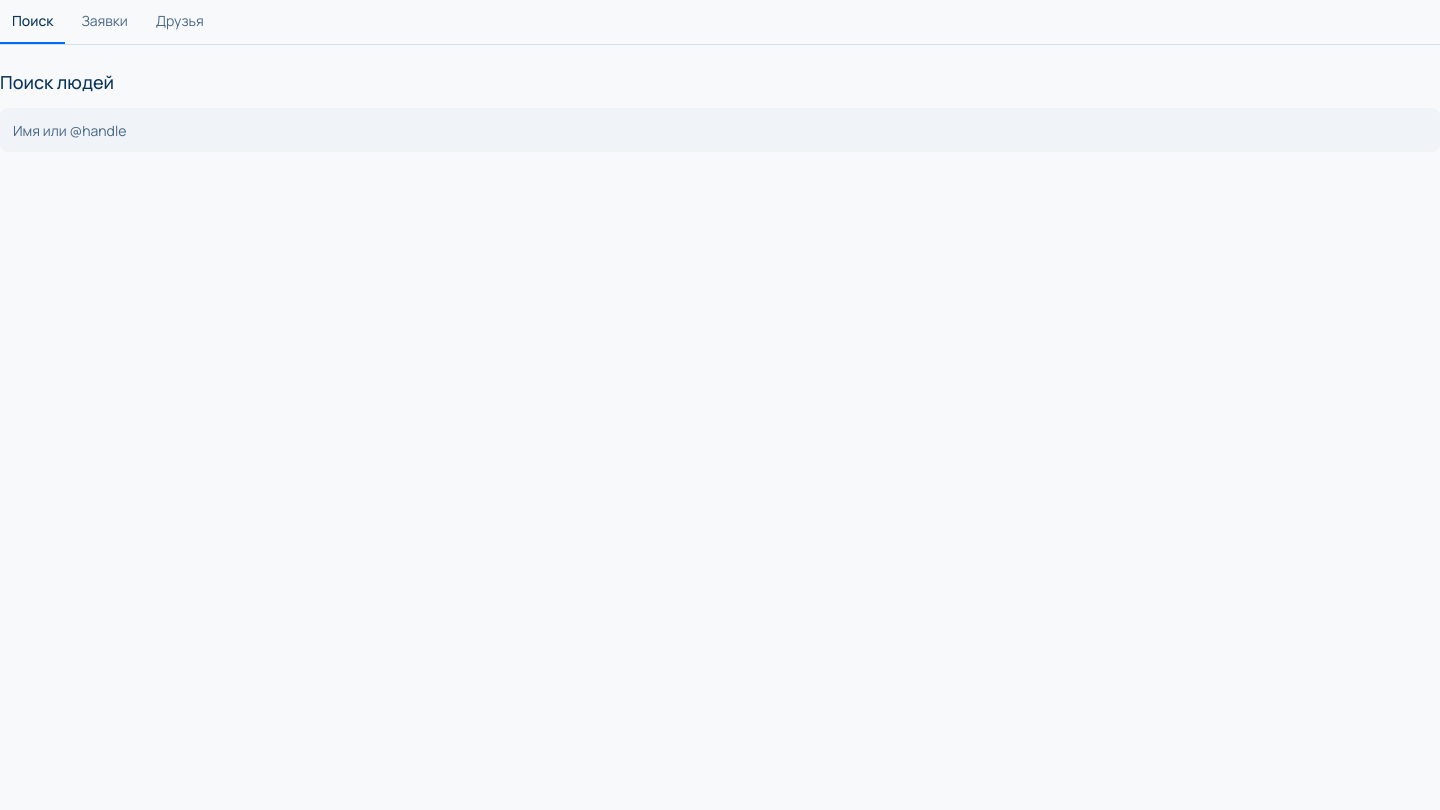
Test: FriendsView feedback › rolls back the friends list and shows an error when removal fails
Click the tab "Друзья" at (180, 22), box [144,0,216,44]
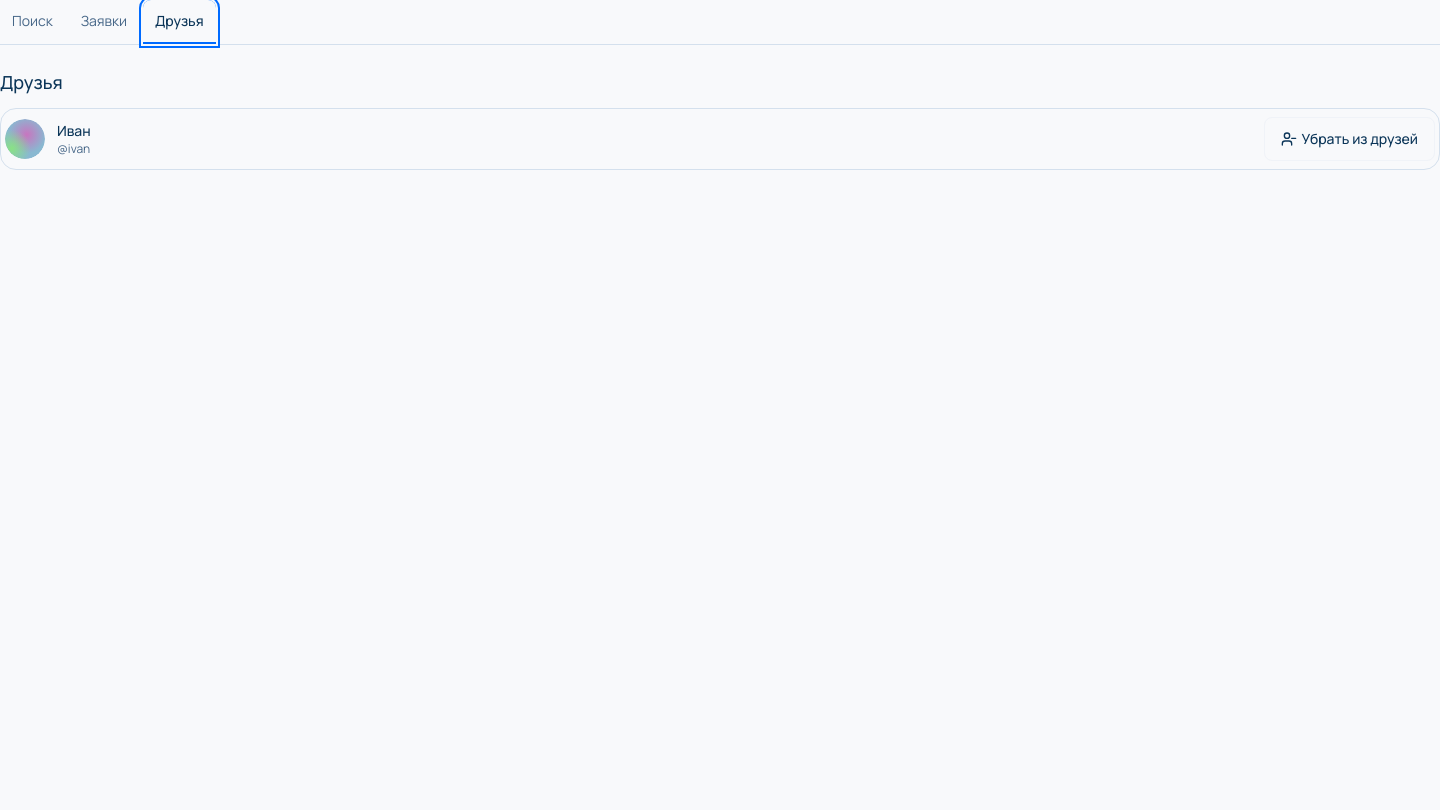
Click the button with aria-label "Убрать Иван из друзей" at (1350, 139), box [1264,117,1435,161]
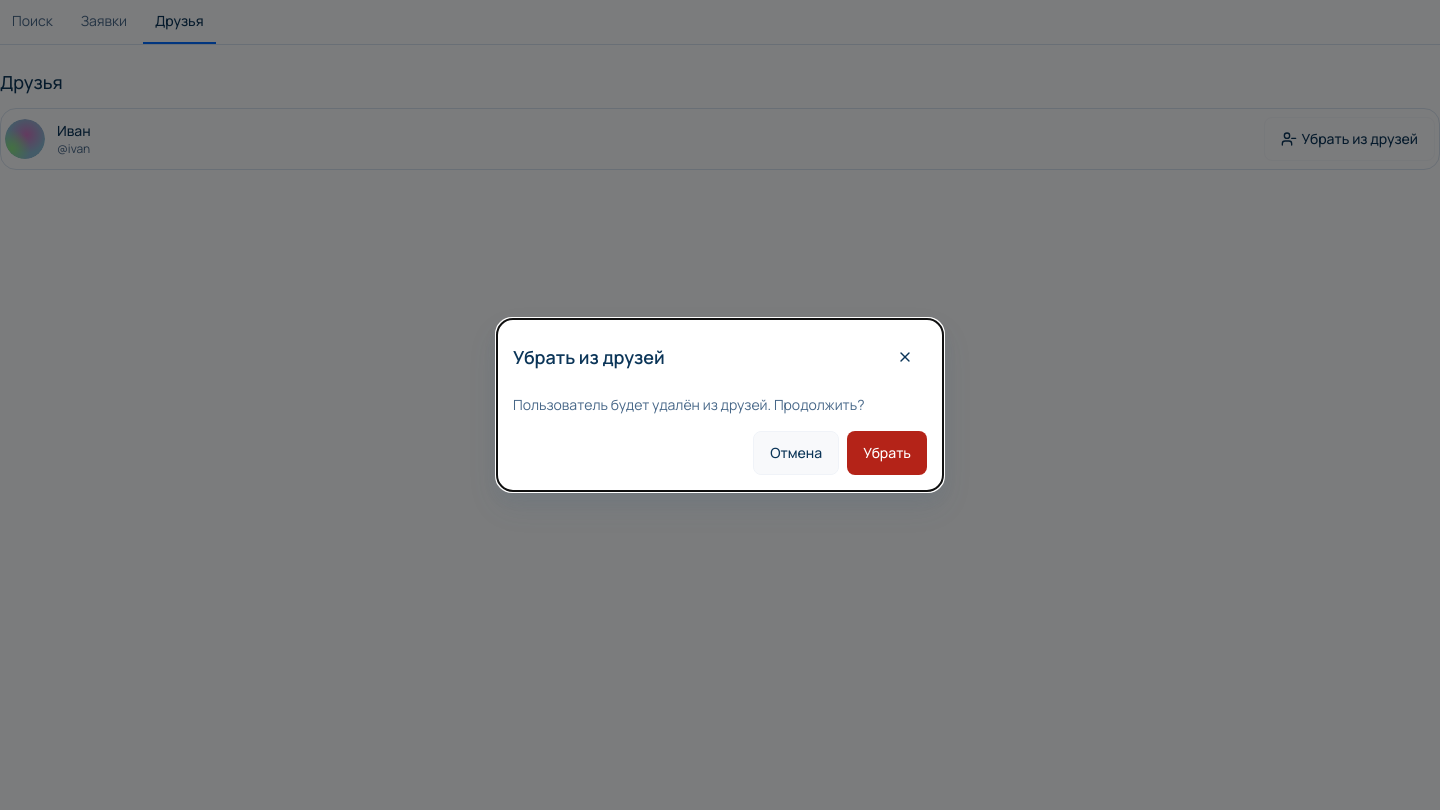
Click the button "Убрать" at (887, 453), box [847,431,927,475]
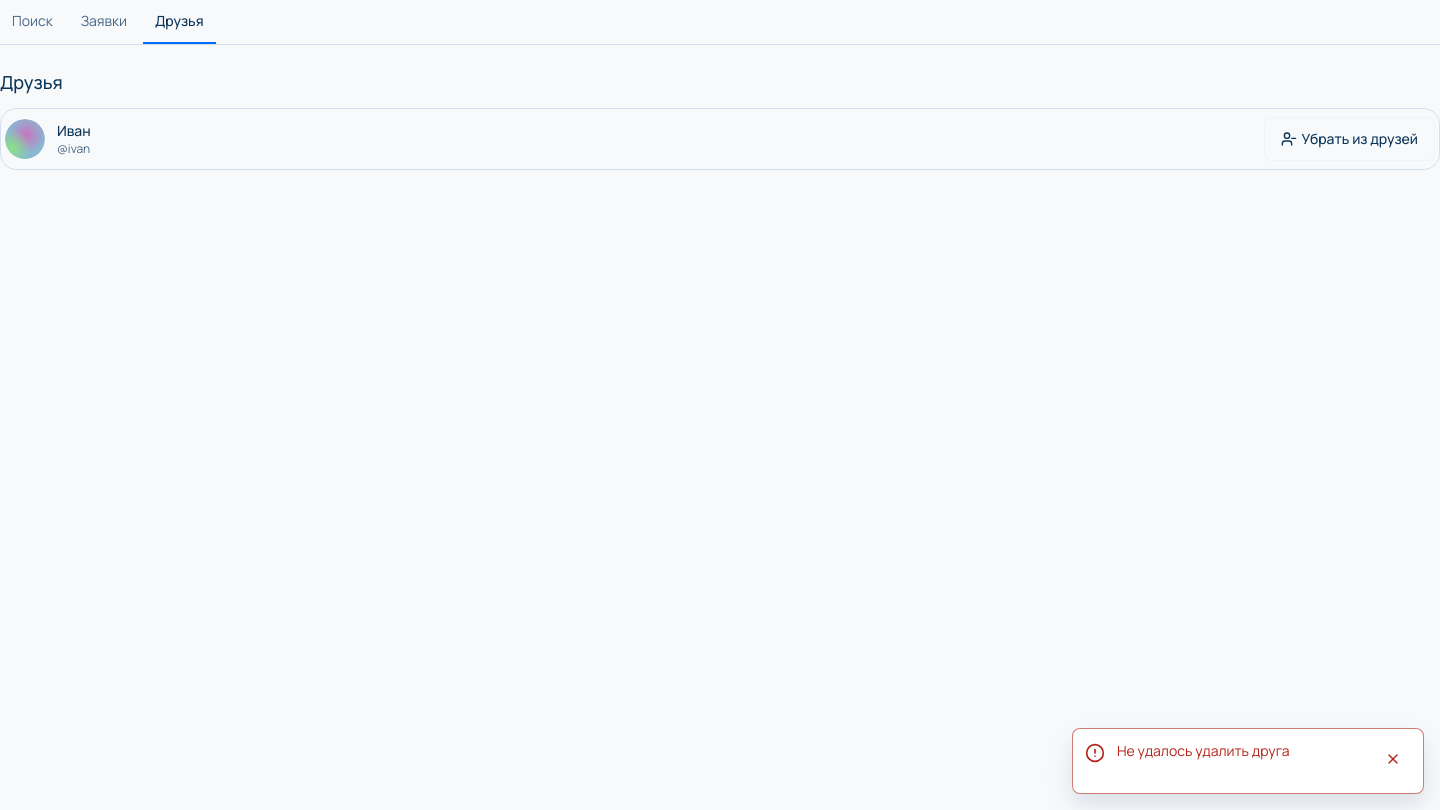
Result: the button with aria-label "Убрать Иван из друзей" is shown at [1264,117,1435,161]
Result: the list item with test id "toast" reads "Не удалось удалить друга" at [1117,741,1290,760]
